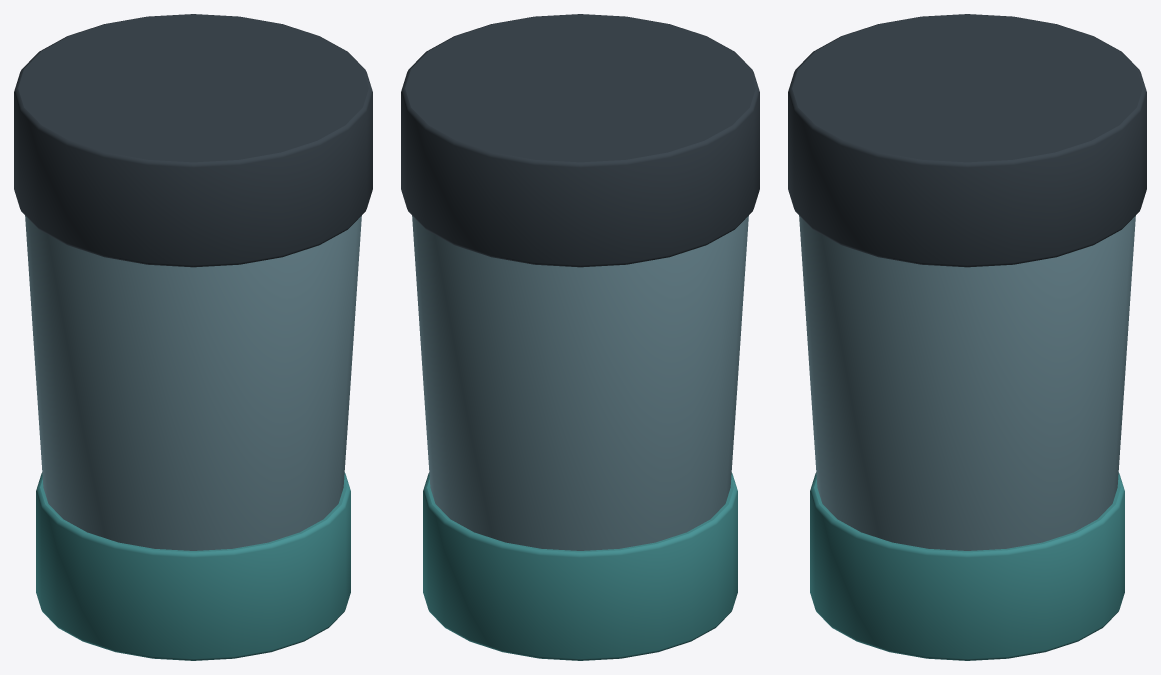
The model's file is upper-arm.glb.
The picture shows the model from 3 angles, left to right: view 1: azimuth 30°, elevation 25°; view 2: azimuth 150°, elevation 25°; view 3: azimuth 270°, elevation 25°; orthographic projection.
Visible parts, largest first — view 1: Sleeve, Shoulder protection, Cuff; view 2: Sleeve, Shoulder protection, Cuff; view 3: Sleeve, Shoulder protection, Cuff.
Boxes of the visible parts, x1,y1,x2,y2 form: Sleeve: (25, 215, 361, 550); Shoulder protection: (14, 14, 372, 267); Cuff: (36, 472, 350, 660); Sleeve: (412, 215, 748, 550); Shoulder protection: (401, 14, 759, 267); Cuff: (423, 472, 737, 660); Sleeve: (799, 215, 1135, 550); Shoulder protection: (788, 14, 1146, 267); Cuff: (810, 472, 1124, 660).
Bounding box in the file's own units: 0.18 × 0.281 × 0.18.
